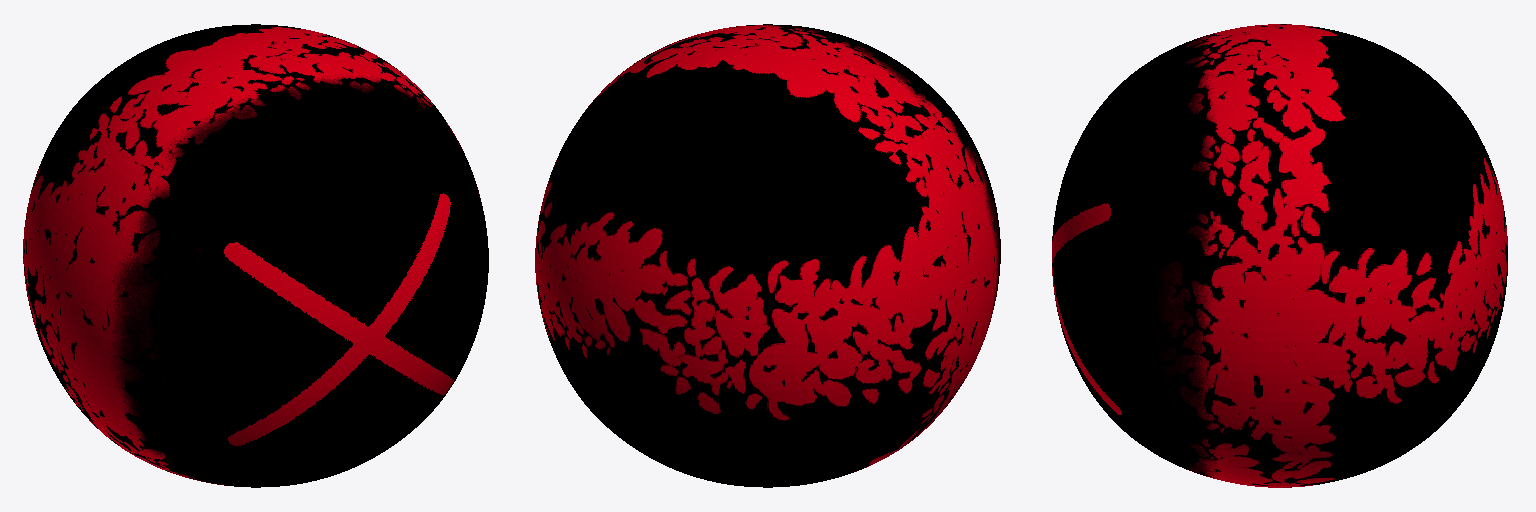
3 renders of one model, left to right at view 1: azimuth 30°, elevation 25°; view 2: azimuth 150°, elevation 25°; view 3: azimuth 270°, elevation 25°, orthographic.
Visible parts, largest first — view 1: Cube; view 2: Cube; view 3: Cube.
Boxes of the visible parts, box(x1,y1,x2,y2) form: Cube: box(23, 24, 488, 487); Cube: box(535, 24, 1000, 487); Cube: box(1052, 24, 1507, 487).
Size of the model in its own units: 1.83 by 1.83 by 1.83.
Materials: 1 (1 with a texture image).